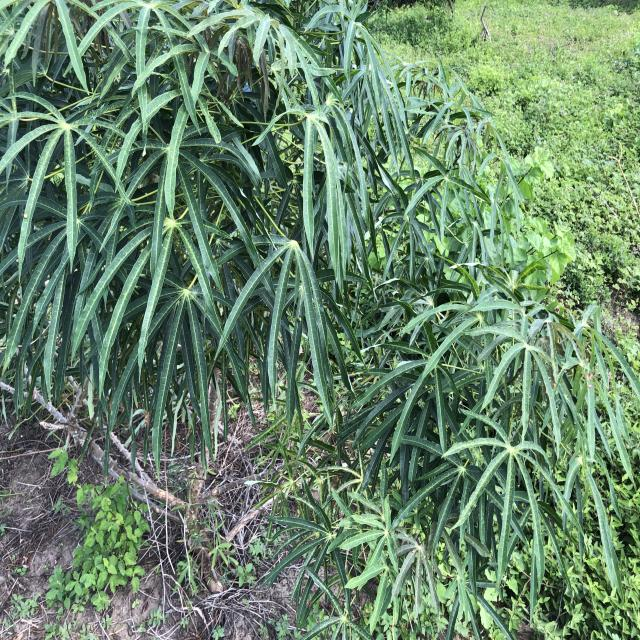Maleza: (526, 55, 637, 297), (456, 6, 635, 78), (60, 479, 145, 613)
Mosca: (586, 370, 603, 395), (130, 176, 147, 195), (463, 497, 482, 514), (502, 311, 519, 327), (340, 135, 352, 156), (549, 375, 561, 393), (390, 392, 404, 407)
